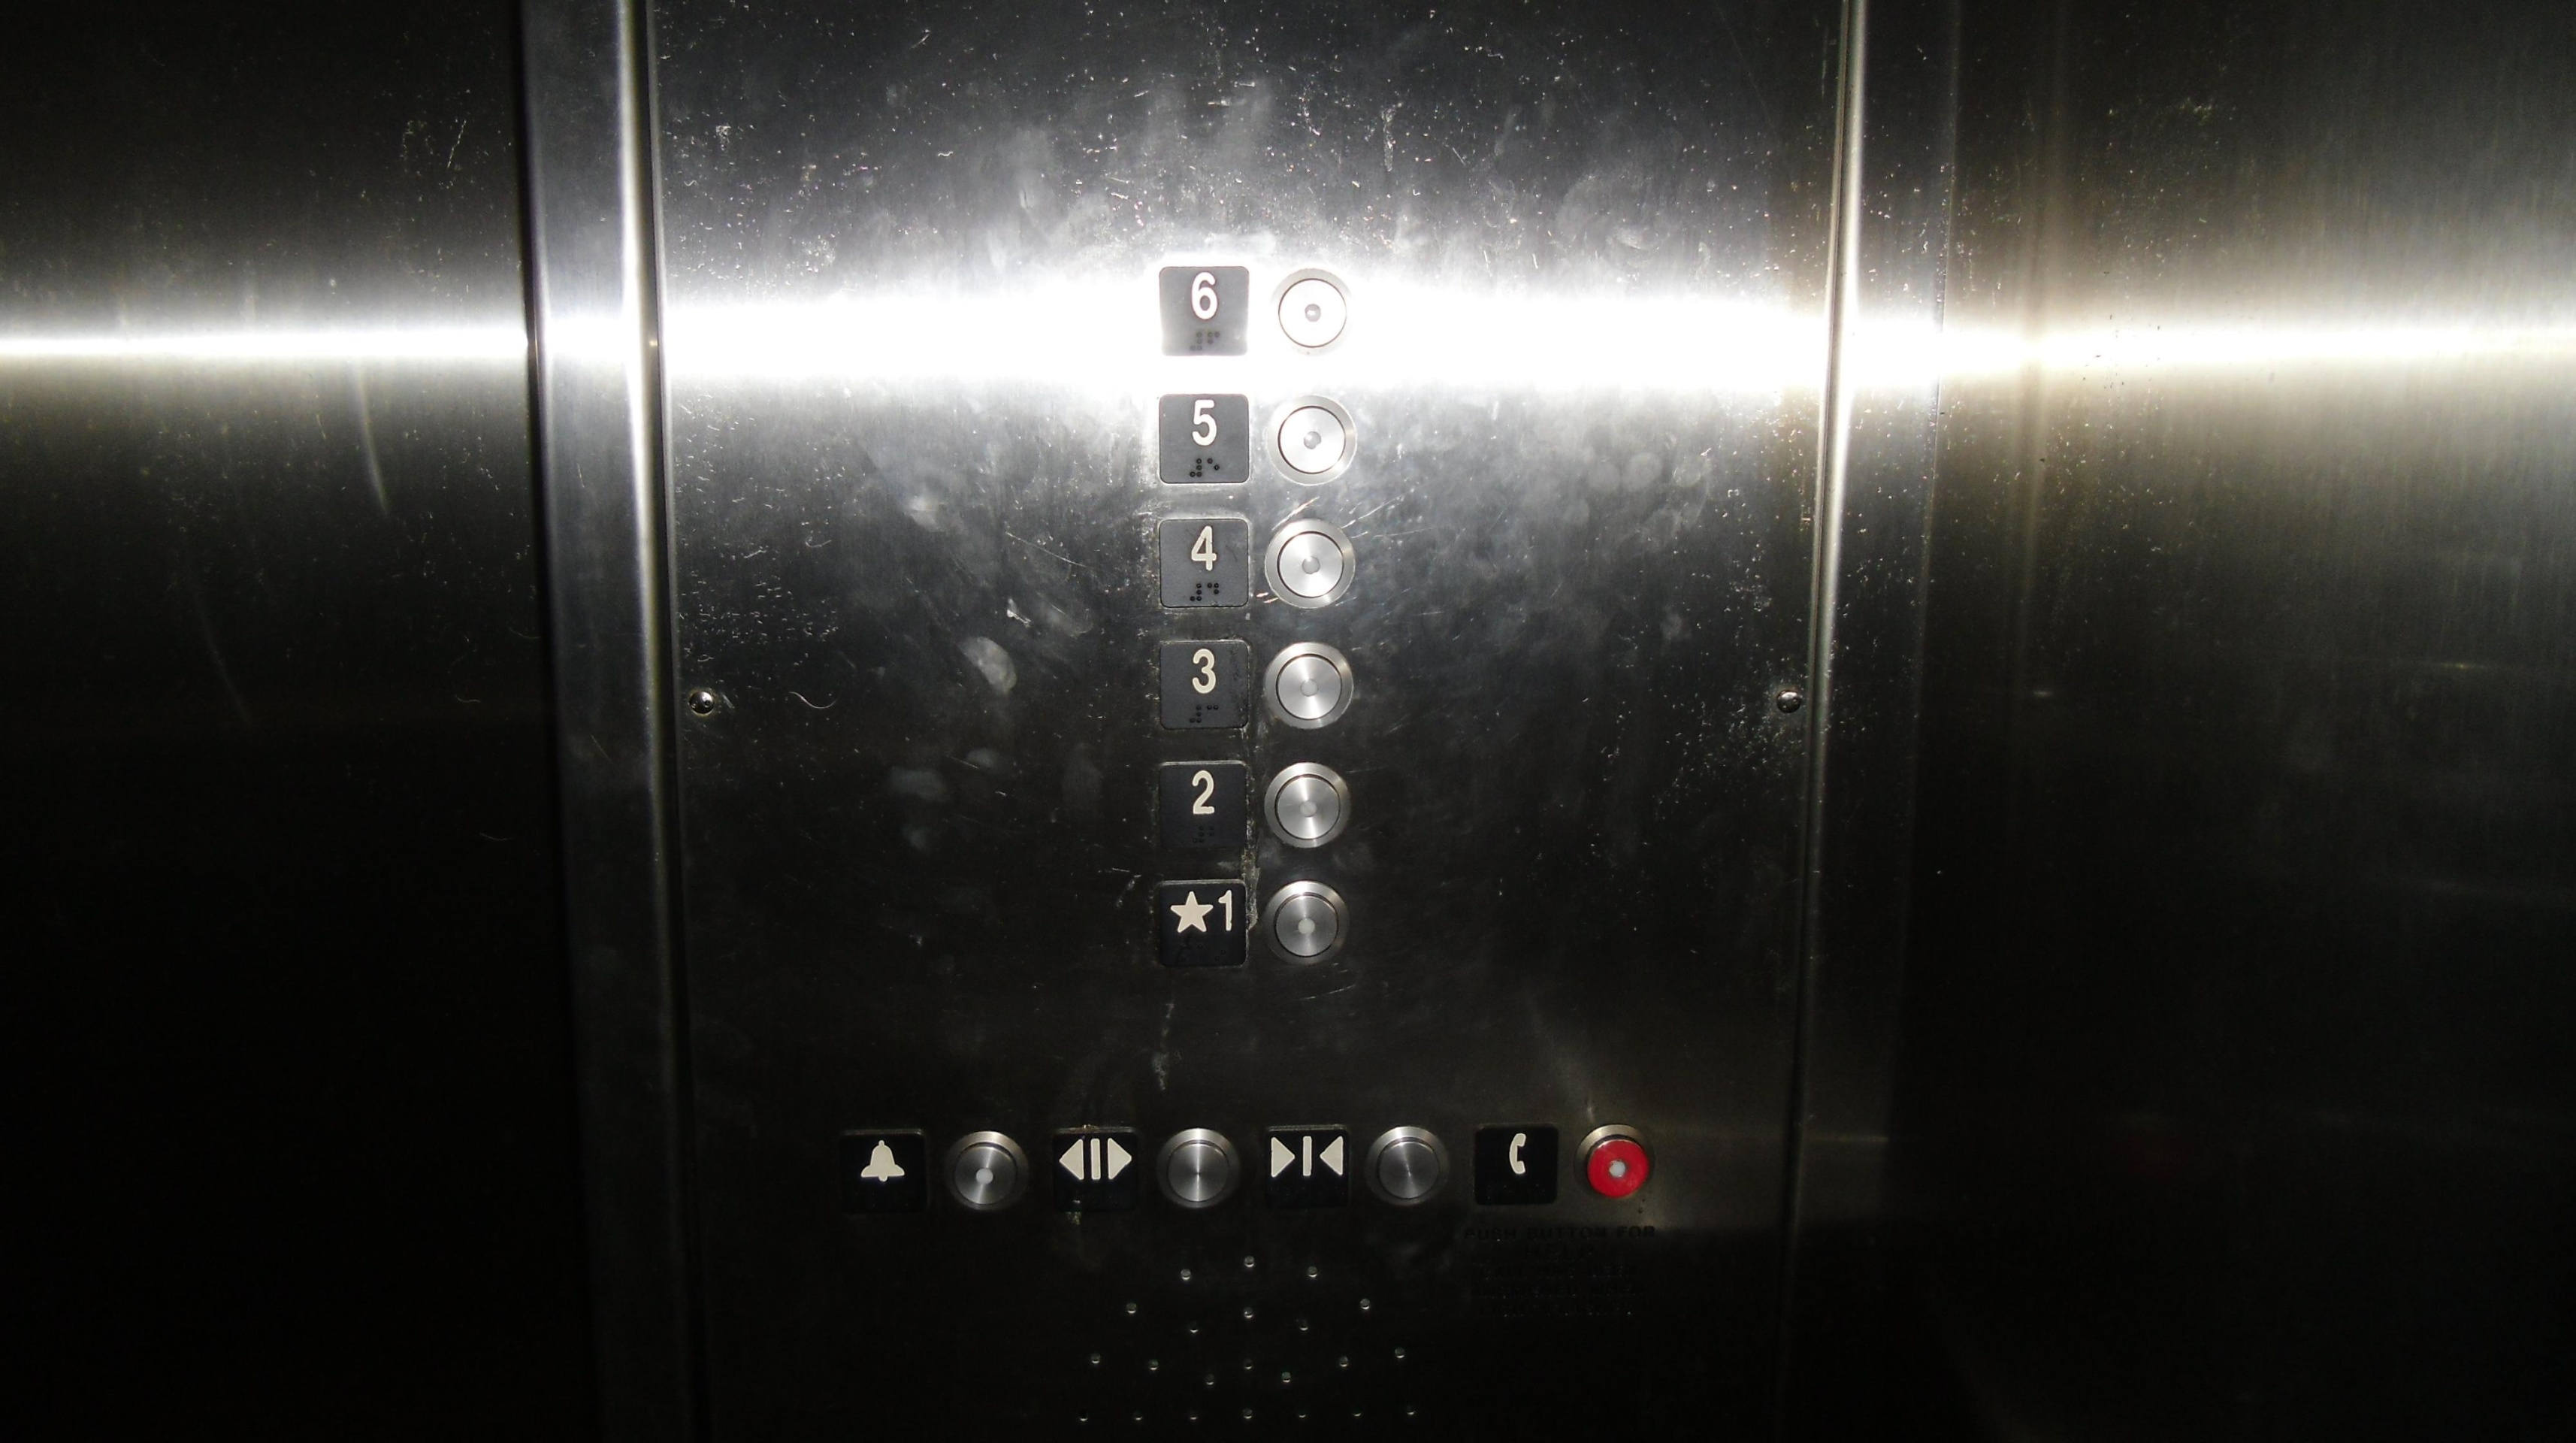2: (1157, 758, 1253, 857)
3: (1157, 637, 1254, 731)
4: (1157, 515, 1253, 609)
5: (1154, 390, 1254, 487)
6: (1157, 262, 1253, 363)
alarm: (832, 1124, 932, 1220)
call: (1472, 1119, 1562, 1213)
close: (1261, 1124, 1353, 1215)
empty: (1263, 517, 1357, 613), (1265, 397, 1359, 489), (1263, 758, 1353, 850), (943, 1126, 1033, 1215), (1260, 882, 1348, 970), (1265, 643, 1355, 729), (1270, 271, 1355, 363), (1368, 1124, 1453, 1213), (1157, 1124, 1240, 1213), (1576, 1124, 1656, 1202)
open: (1051, 1124, 1139, 1211)
s1: (1155, 875, 1253, 972)
